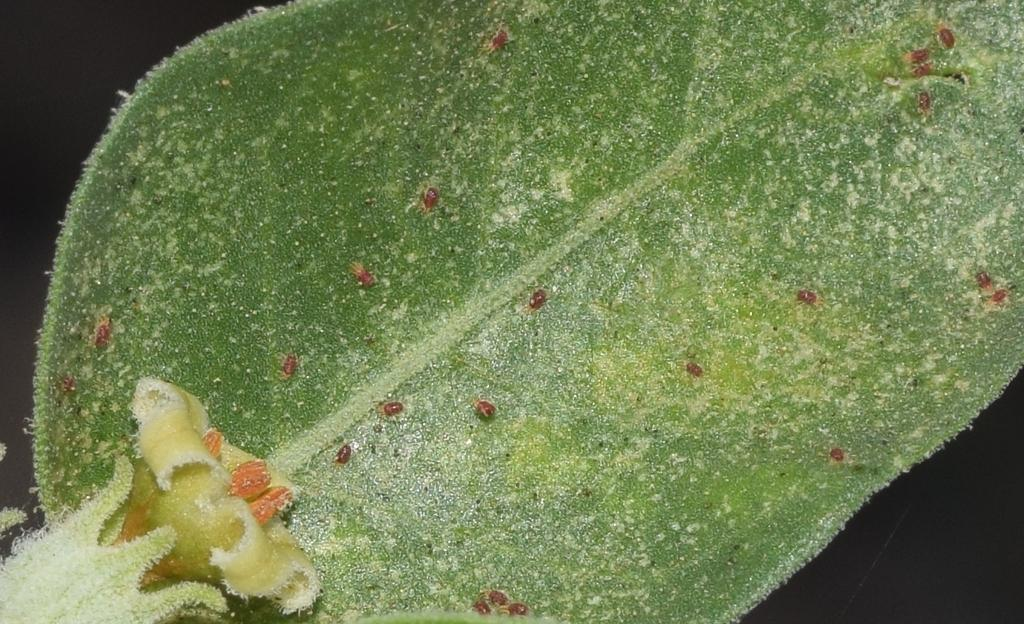tiny_pests: (407, 174, 454, 222), (339, 255, 389, 300), (370, 387, 421, 431), (463, 392, 512, 434), (785, 271, 825, 321), (274, 341, 309, 394), (523, 269, 558, 319), (81, 315, 124, 354), (931, 10, 965, 55), (817, 433, 855, 469), (480, 575, 514, 615), (483, 20, 516, 60), (909, 85, 943, 122), (676, 352, 716, 383), (967, 262, 998, 301), (461, 594, 495, 624), (328, 435, 359, 467), (502, 596, 535, 624)
